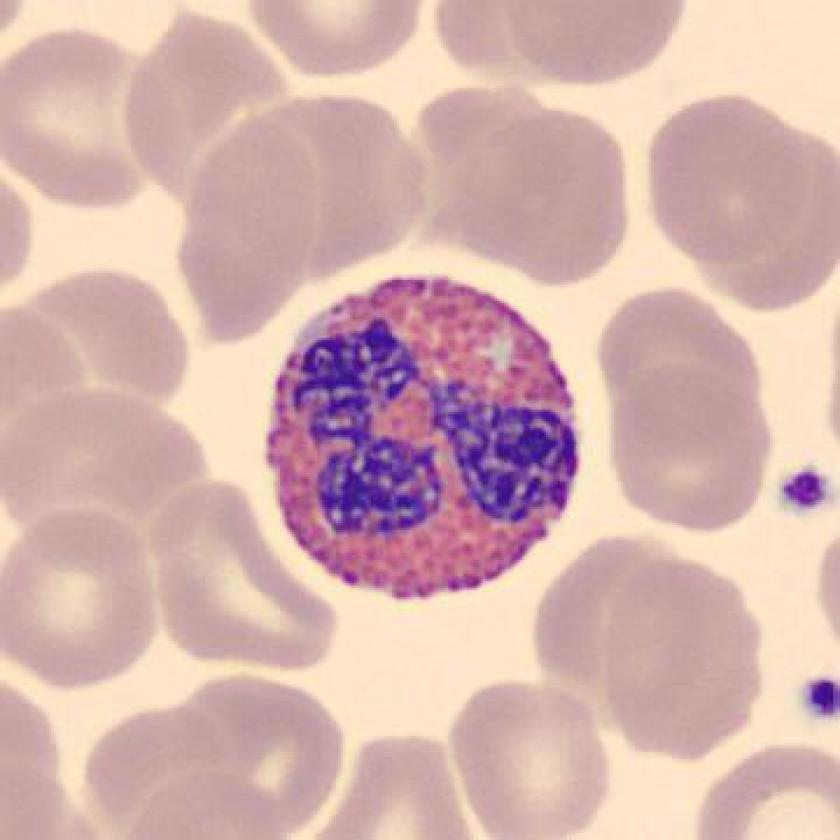eosinophil: (253, 260, 589, 617)
